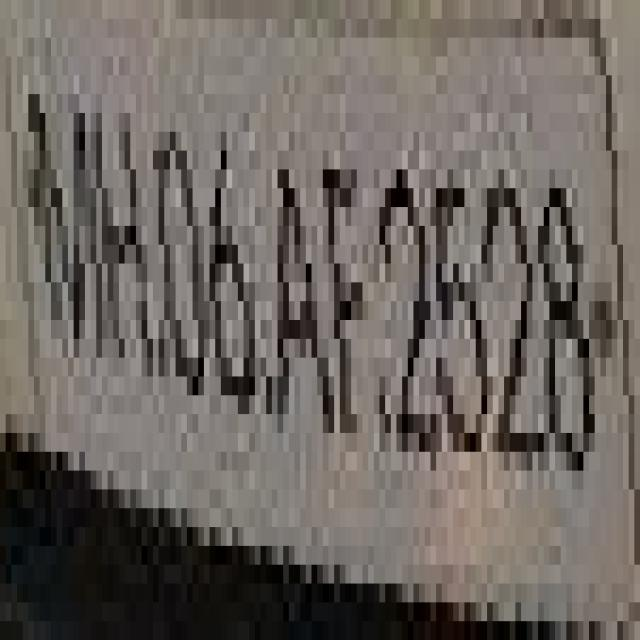plate: (0, 75, 617, 545)
